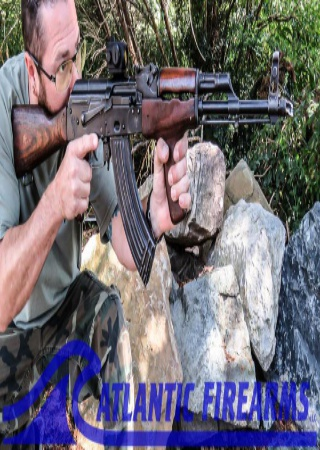rifle: (11, 59, 306, 283)
